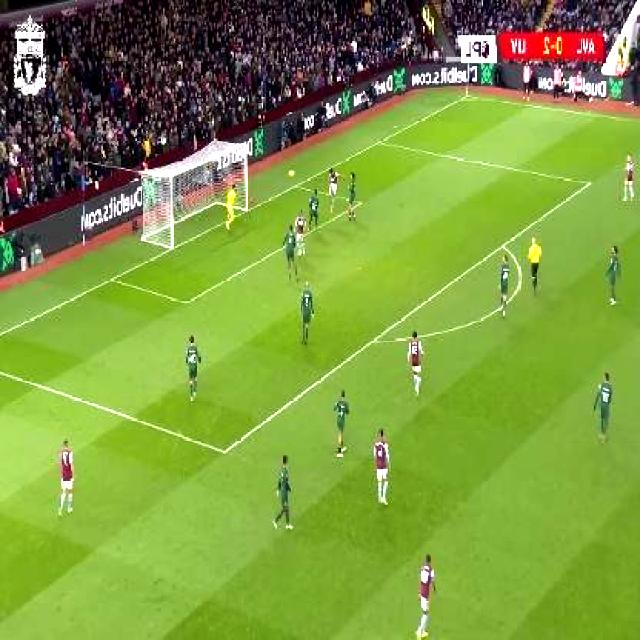bigarea_bottom_inner: (216, 437, 236, 465)
bigarea_top_inner: (583, 172, 599, 192)
bigarea_top_outter: (372, 134, 386, 149)
bottom_arc_area_intersection: (366, 329, 383, 349)
corner: (462, 89, 478, 102)
smallarea_bottom_inner: (178, 288, 197, 312)
smallarea_bottom_outter: (106, 269, 122, 286)
smallarea_top_inner: (354, 192, 368, 210)
smallarea_top_outter: (289, 175, 303, 192)
top_arc_area_intersection: (497, 235, 511, 252)
